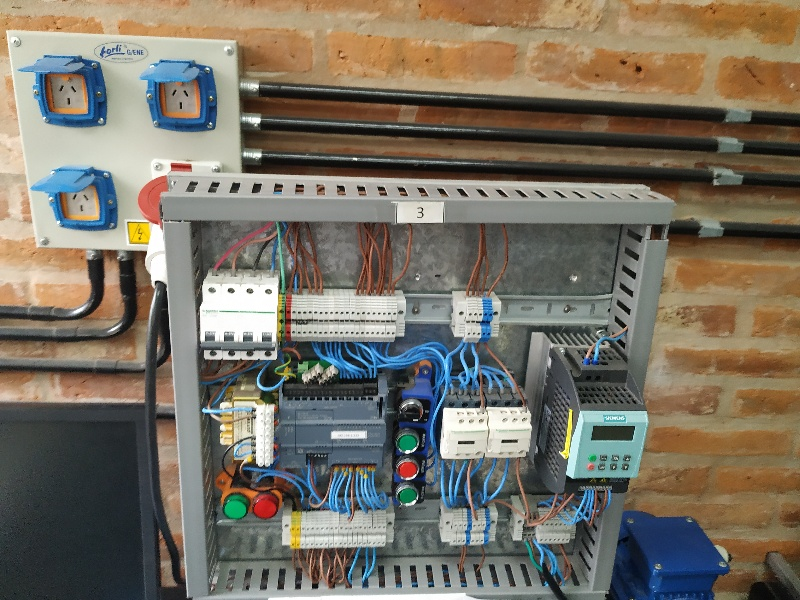Tablero 3: (181, 209, 649, 600)
